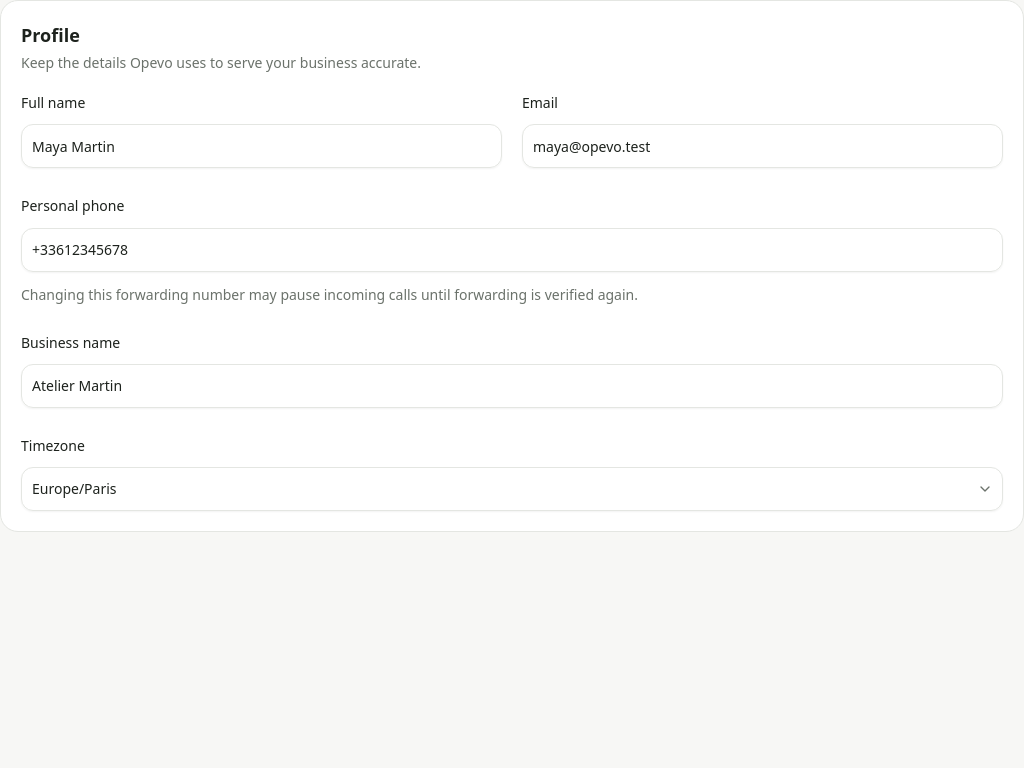
it: account profile form › uses the confirmed success profile as the next baseline and clears the dirty bar
Step 1. Replace the text in the field labelled "Business name" with "Atelier Draft" → (512, 386), box left=21, top=364, right=1003, bottom=408
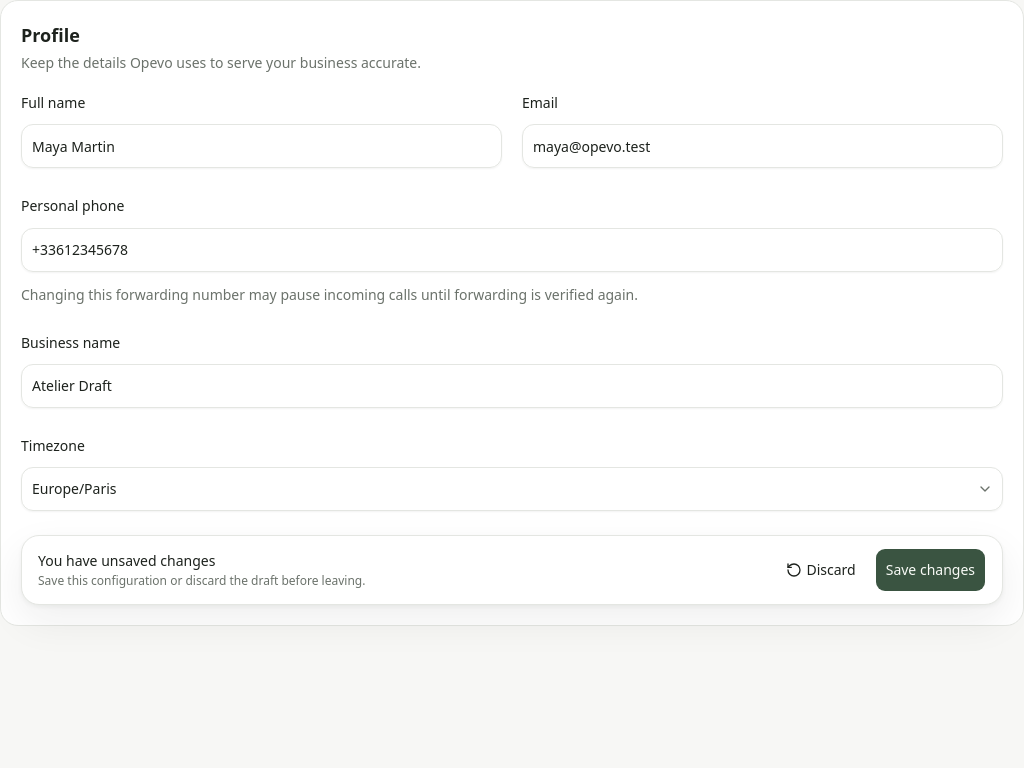
Step 2. Click the button "Save changes" → (930, 570), box left=875, top=548, right=986, bottom=592
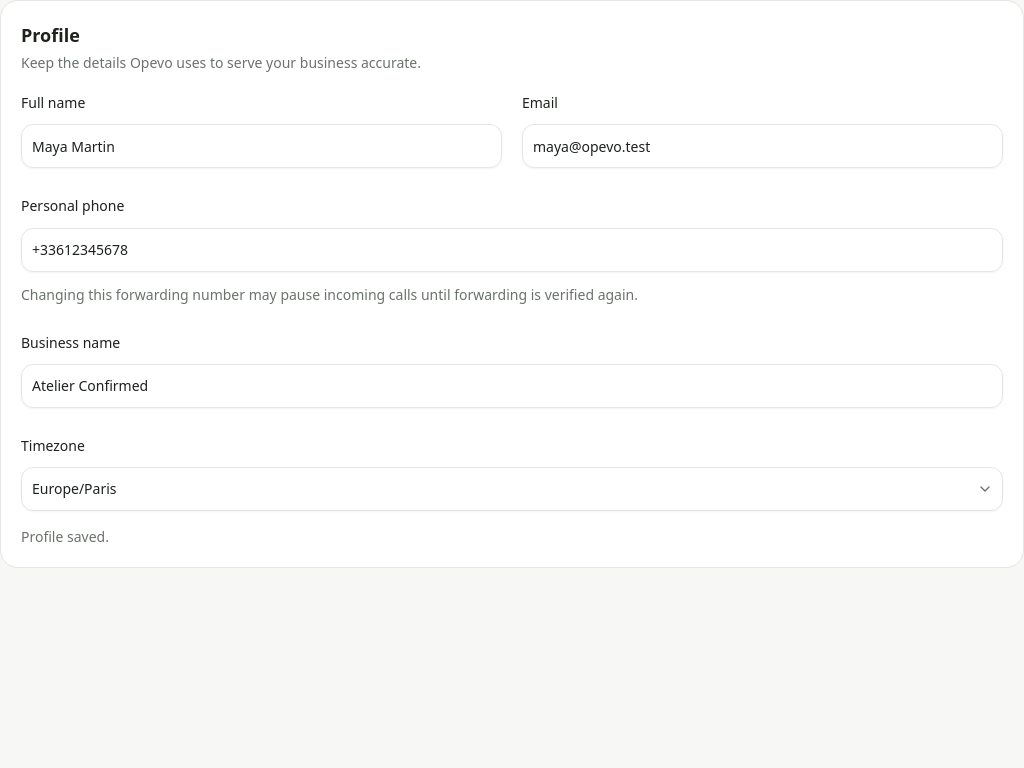
Expected: the field labelled "Business name" holds "Atelier Confirmed"
Expected: the text "unsaved changes" is gone
Expected: the message reads "Profile saved.", left=21, top=527, right=109, bottom=546
Step 3. Replace the text in the field labelled "Business name" with "Atelier next draft" → (512, 386), box left=21, top=364, right=1003, bottom=408
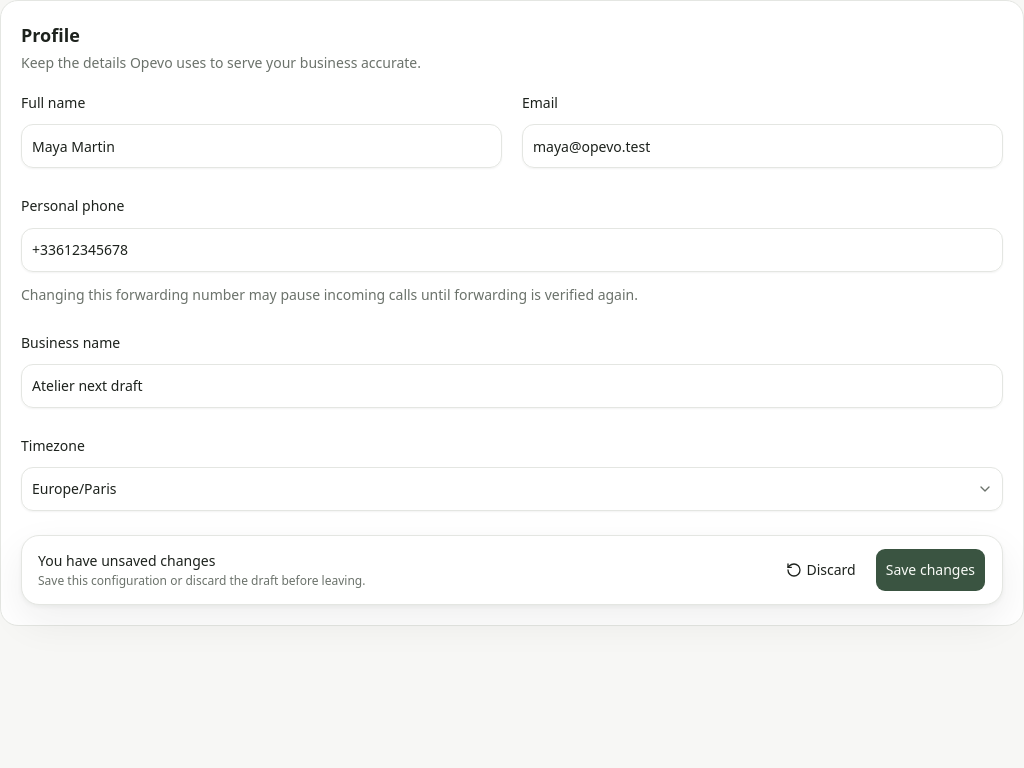
Expected: the text "Profile saved." is gone
